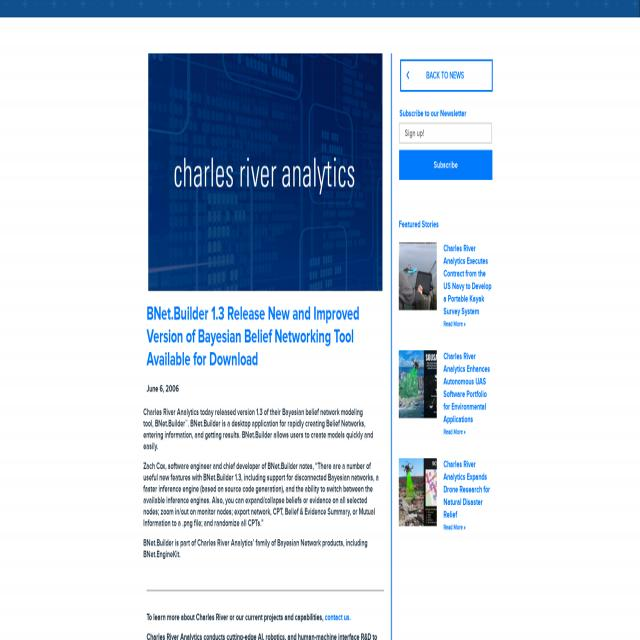button: (148, 53, 382, 291), (400, 59, 493, 92), (399, 150, 493, 179), (398, 242, 438, 310), (398, 458, 438, 526), (398, 350, 436, 418)
field: (399, 122, 492, 144)
